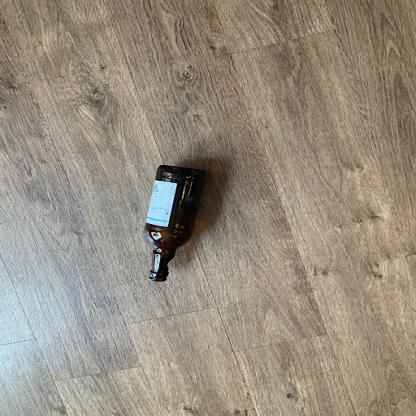trash: (139, 165, 210, 284)
